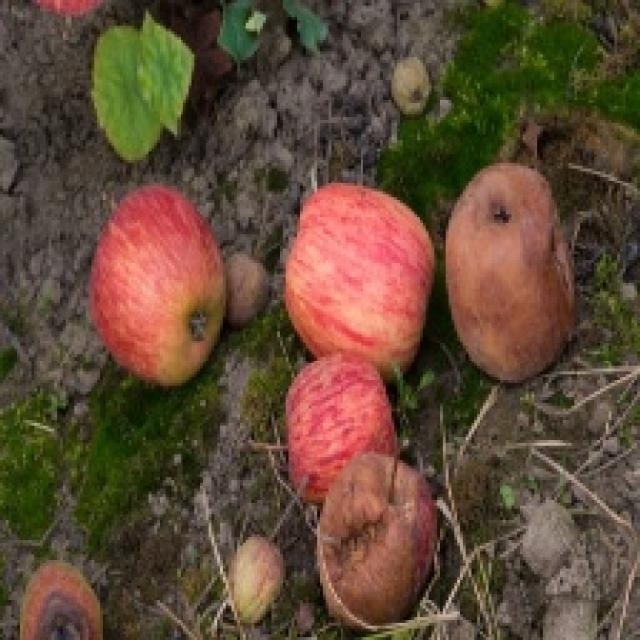apple: (446, 162, 574, 381), (284, 183, 433, 371), (91, 185, 227, 384), (318, 453, 435, 623), (287, 352, 397, 503), (20, 561, 102, 639), (229, 537, 282, 620), (226, 253, 268, 325), (391, 58, 429, 114)
